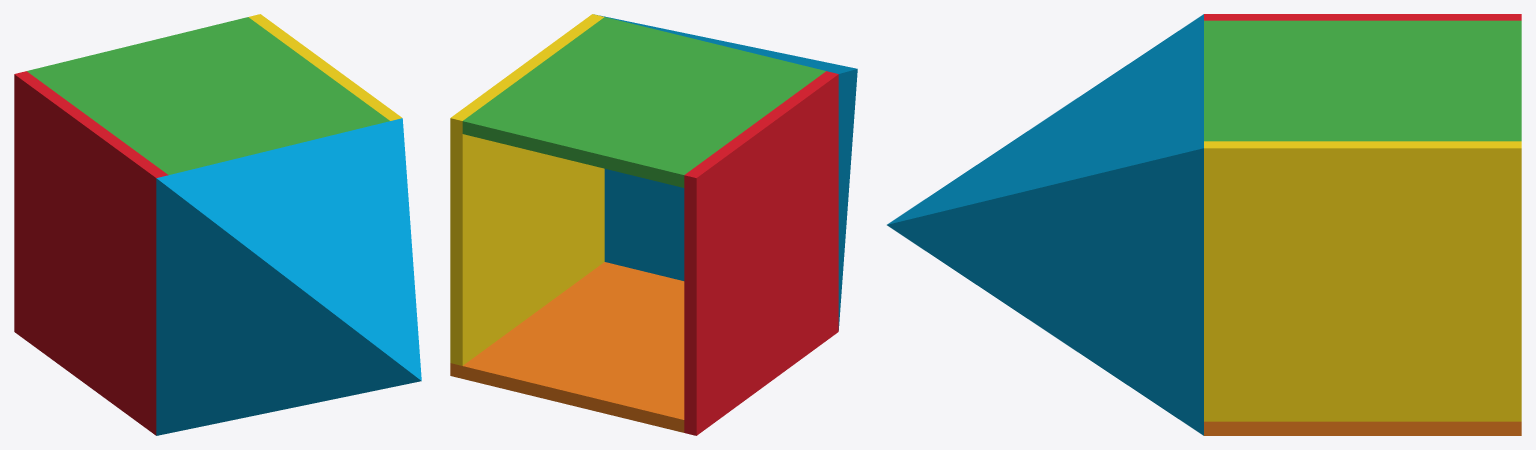
Rendered from tinker.obj.
The picture shows the model from 3 angles, left to right: view 1: azimuth 30°, elevation 25°; view 2: azimuth 150°, elevation 25°; view 3: azimuth 270°, elevation 25°; orthographic projection. The views are drawn at different scales.
Parts seen in each view (by area): view 1: group_0_40919, group_0_15277357, group_0_4634441, group_0_16768282; view 2: group_0_15277357, group_0_4634441, group_0_16768282, group_0_16089887, group_0_40919; view 3: group_0_16768282, group_0_40919, group_0_4634441, group_0_16089887, group_0_15277357.
Part boxes in pixels (bbox=[...]): group_0_40919: bbox=[156, 118, 421, 435]; group_0_15277357: bbox=[14, 71, 168, 435]; group_0_4634441: bbox=[27, 17, 389, 174]; group_0_16768282: bbox=[248, 14, 401, 120]; group_0_15277357: bbox=[684, 71, 838, 435]; group_0_4634441: bbox=[462, 17, 825, 187]; group_0_16768282: bbox=[450, 14, 604, 365]; group_0_16089887: bbox=[450, 262, 684, 432]; group_0_40919: bbox=[594, 14, 857, 330]; group_0_16768282: bbox=[1204, 141, 1521, 421]; group_0_40919: bbox=[887, 14, 1203, 435]; group_0_4634441: bbox=[1204, 20, 1521, 141]; group_0_16089887: bbox=[1204, 421, 1521, 435]; group_0_15277357: bbox=[1204, 14, 1521, 20].
Bounding box in the file's own units: 20 × 20 × 40.
